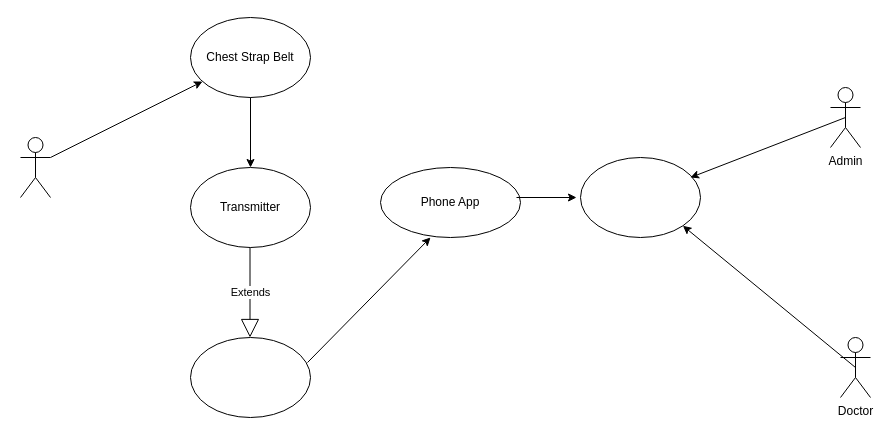
The diagram is 890 pixels wide and 436 high, and some of its shapes have lost their labels. Here are the shapes that lost their labels. From the top down, the centre of each, then its label:
At point (35, 167): "Patient".
At point (640, 197): "Hospital Database".
At point (250, 377): "Bluetooth".
